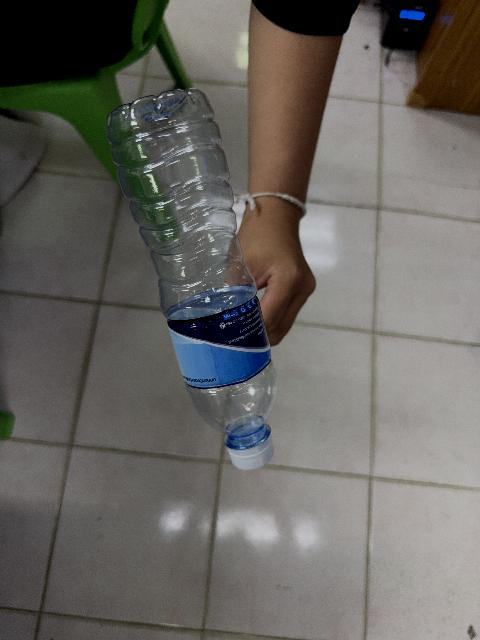bottle: (107, 90, 275, 469)
